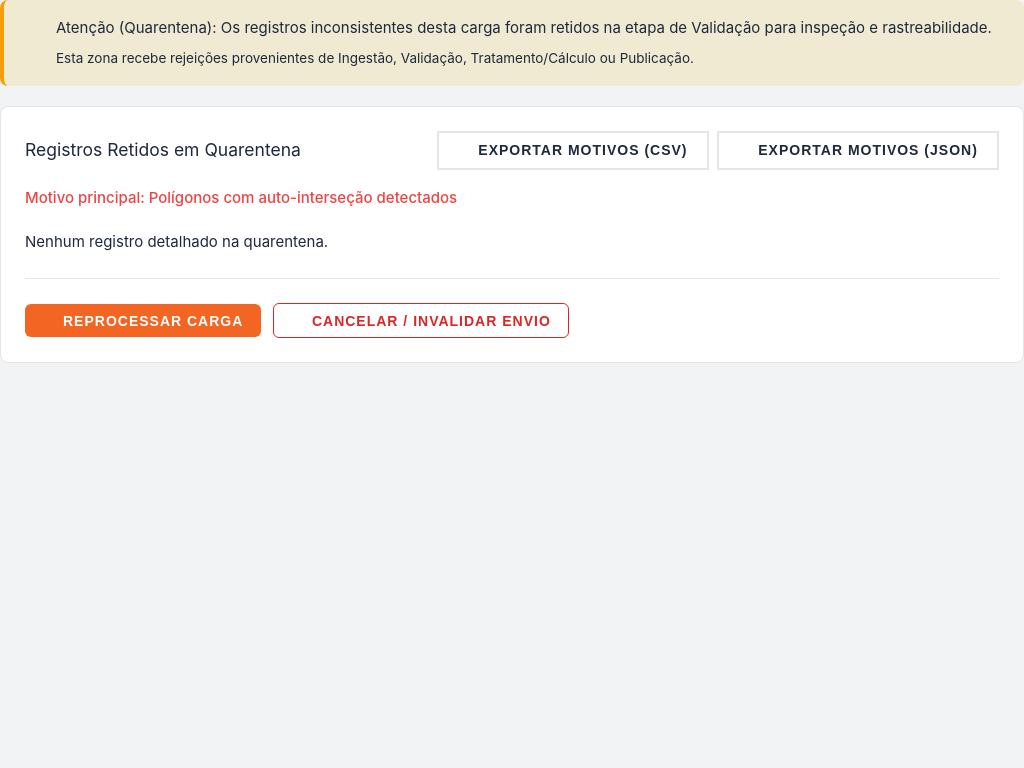
Etapas do Processo de Carga (Pipeline, Quarentena, Publicação e Auditoria) › Etapa de Quarentena e Resolução de Erros (ProcessStageQuarentena) › notifica erros de validação em toasts para exportação vazia e submissão sem arquivo
Tentativa de exportar relatório vazio
Click the button with test id "btn-export-csv": (573, 150) x1=437 y1=131 x2=709 y2=170
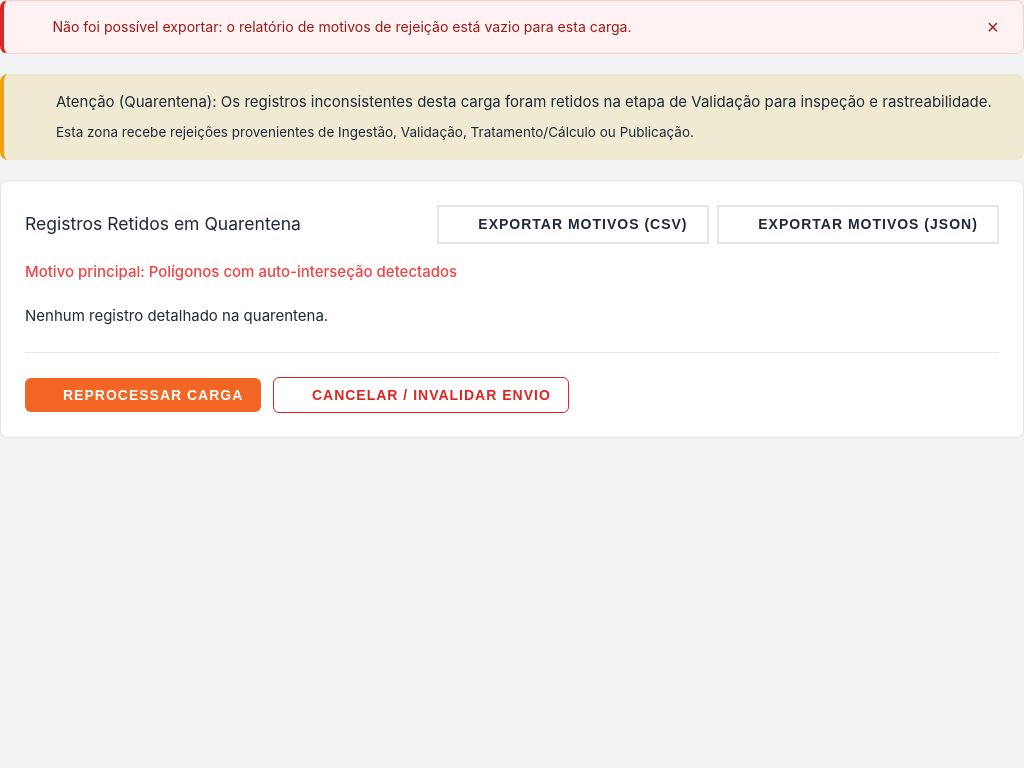
Expected: the message with test id "quarantine-error-toast" is shown, x1=0 y1=0 x2=1023 y2=54
Expected: the message with test id "quarantine-error-toast" shows "vazio", x1=52 y1=18 x2=632 y2=35
Tentativa de confirmar reprocessamento sem selecionar novo arquivo
Click the button with test id "btn-open-reprocess-modal": (143, 395) x1=25 y1=378 x2=261 y2=412
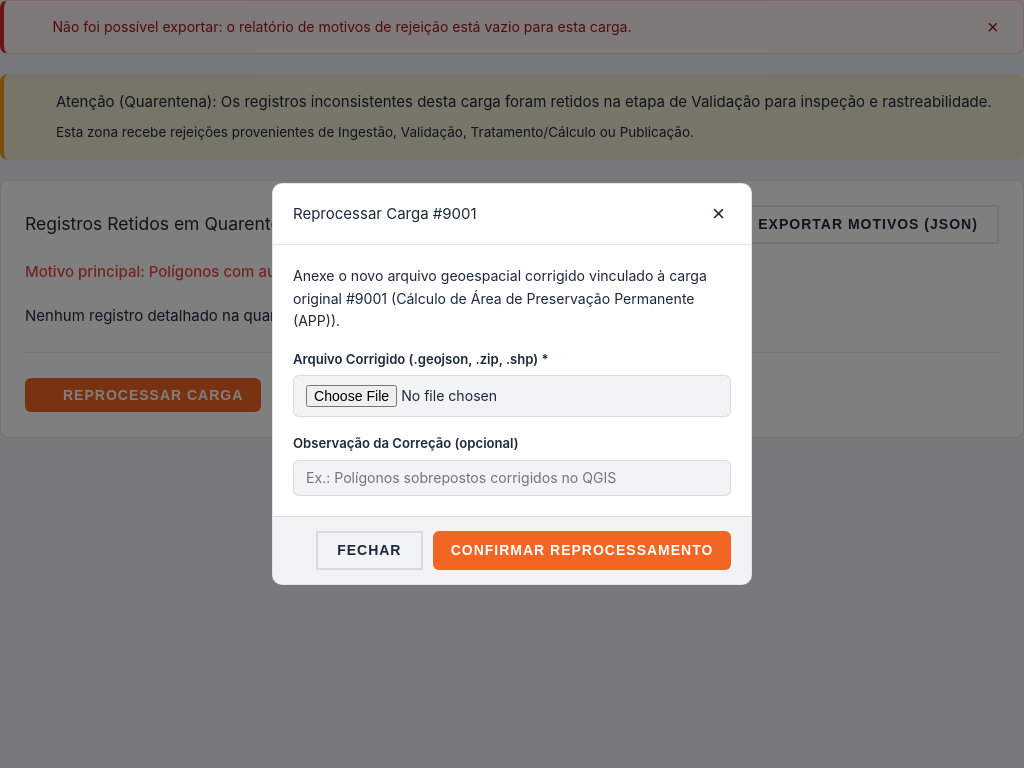
Expected: the element with test id "reprocess-modal" is shown
Click the button with test id "btn-confirm-reprocess": (582, 550) x1=433 y1=531 x2=731 y2=570
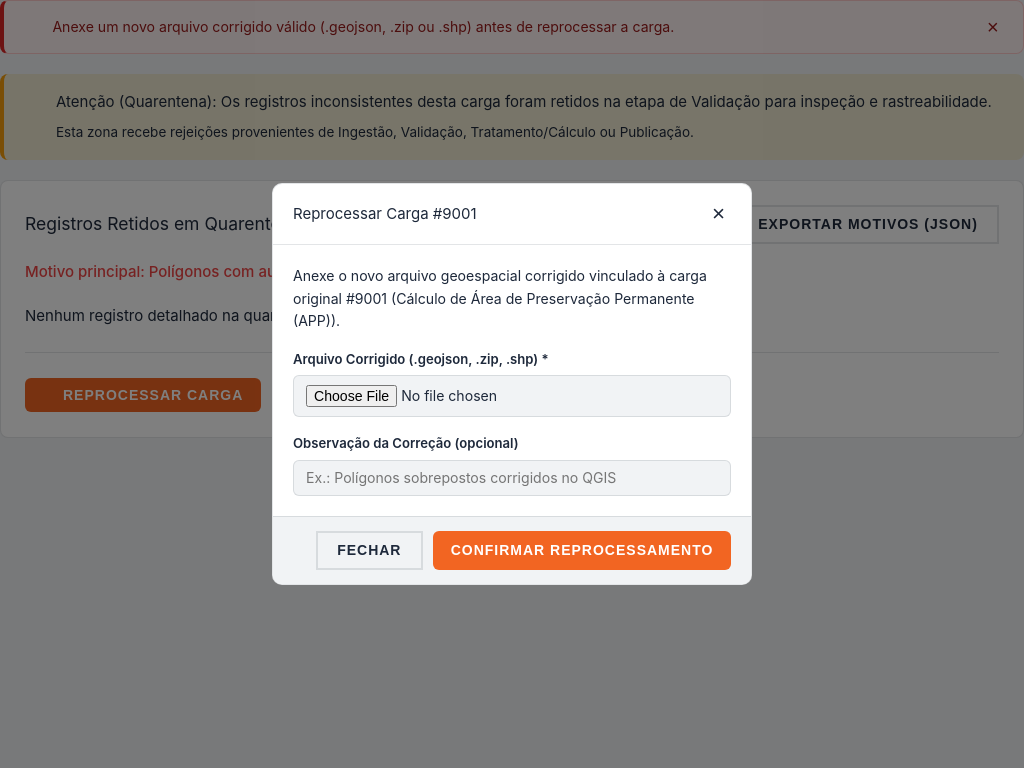
Expected: the message with test id "quarantine-error-toast" shows "Anexe um novo arquivo corrigido válido", x1=52 y1=18 x2=674 y2=35
